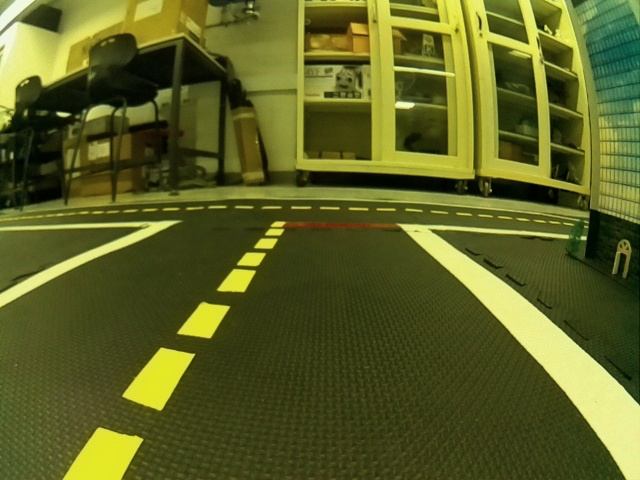linea de pare: (276, 216, 410, 236)
